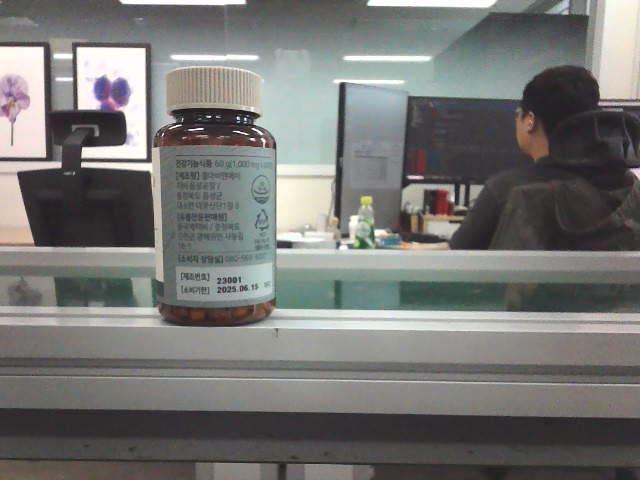labeled: (148, 62, 281, 329)
